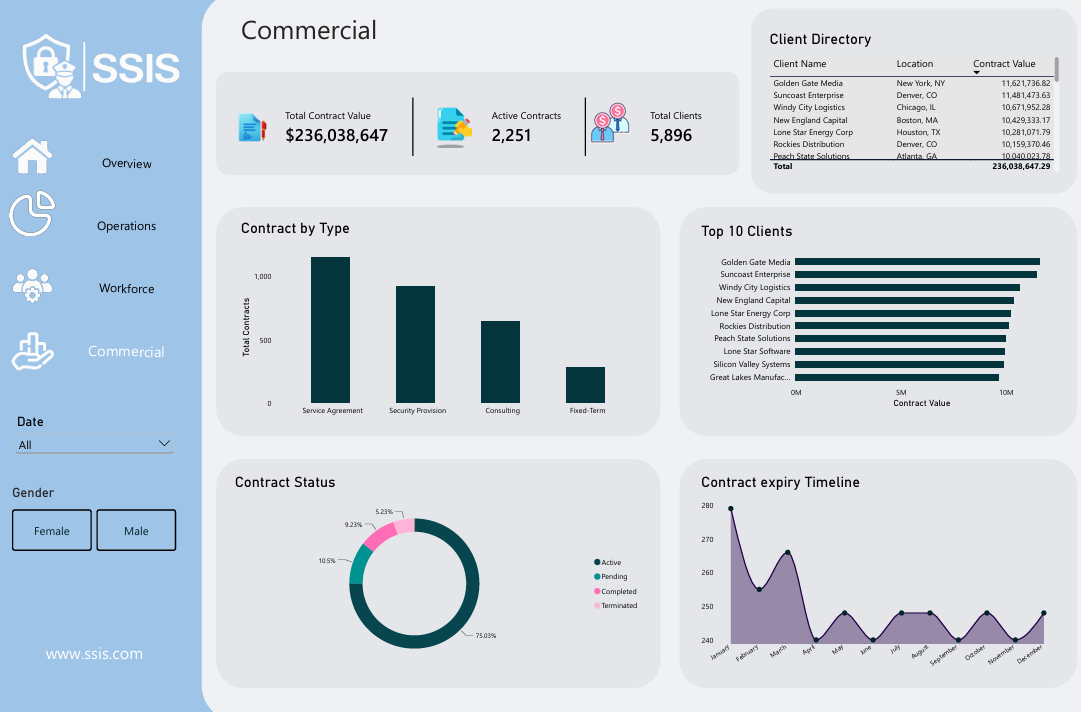

This screenshot's page, from the dashboard's own definition file:
{"tool":"powerbi","page":{"name":"Commercial","canvas":[1280,720],"ordinal":3},"visuals":[{"type":"textbox","box":[420.2,11.8,850.8,64.7],"z":0},{"type":"actionButton","box":[20.6,301.2,175.4,58.9],"z":0,"group":"g4"},{"type":"shape","box":[10.3,11.8,205.7,696.5],"z":1000},{"type":"image","box":[20.6,301.2,40.6,58.9],"z":1000,"group":"g4"},{"type":"textbox","box":[20.6,27.9,174.9,61.7],"z":2000},{"type":"actionButton","box":[20.6,567.2,175.4,58.9],"z":2000,"group":"g1"},{"type":"actionButton","box":[20.6,389.4,175.4,58.9],"z":3000,"group":"g3"},{"type":"group","id":"g1","title":"Group 1","box":[20.6,567.2,174.9,60.2],"z":3000},{"type":"group","id":"g2","title":"Group 2","box":[20.6,480.5,174.9,60.2],"z":4000},{"type":"group","id":"g3","title":"Group 3","box":[20.6,389.4,174.9,58.8],"z":5000},{"type":"actionButton","box":[20.6,480.5,175.4,60.2],"z":5000,"group":"g2"},{"type":"group","id":"g4","title":"Group 4","box":[20.6,301.2,174.9,58.8],"z":6000},{"type":"cardVisual","title":"Active Contracts","fields":{"Data":["ssis contract.Active Contracts"]},"box":[624.5,91.1,273.2,96.3],"z":6001,"group":"g7"},{"type":"image","box":[20.6,567.2,40.6,58.9],"z":6001,"group":"g1"},{"type":"image","box":[20.6,481.8,40.6,58.9],"z":6002,"group":"g2"},{"type":"image","box":[20.6,389.4,40.6,58.9],"z":6003,"group":"g3"},{"type":"group","id":"g5","title":"Group 1","box":[227.8,92.6,243.9,94],"z":7000},{"type":"image","box":[624.5,91.1,78.8,92.5],"z":8000,"group":"g7"},{"type":"group","id":"g6","title":"Group 4","box":[1025.6,91.1,245.4,99.9],"z":8000},{"type":"group","id":"g7","title":"Group 5","box":[624.5,91.1,273.3,95.5],"z":9000},{"type":"cardVisual","title":"Contract Value","fields":{"Data":["ssis contract.Total Contract Value"]},"box":[227.8,92.6,245,96.3],"z":10000,"group":"g5"},{"type":"clusteredColumnChart","title":"Contract by Type","fields":{"Category":["ssis contract.contract_type"],"Y":["CountNonNull(ssis contract.contract_id)"]},"box":[580.4,196.9,392.3,314.4],"z":10000},{"type":"donutChart","title":"Contract  Status","fields":{"Y":["CountNonNull(ssis contract.contract_id)"],"Category":["ssis contract.status"]},"box":[227.1,523,461.1,185.8],"z":11000},{"type":"cardVisual","title":"Total Clients","fields":{"Data":["ssis client.Total Clients"]},"box":[1025.6,91.1,246.1,99.5],"z":12000,"group":"g6"},{"type":"clusteredBarChart","title":"Top 10 Clients","fields":{"Category":["ssis client.client_name"],"Y":["Sum(ssis contract.contract_value)"]},"box":[227.1,196.8,348.2,313.8],"z":12000},{"type":"lineChart","title":"Contract expiry Timeline","fields":{"Category":["ssis contract.contract_end.Variation.Date Hierarchy.Year","ssis contract.contract_end.Variation.Date Hierarchy.Month","ssis contract.contract_end.Variation.Date Hierarchy.Day"],"Y":["CountNonNull(ssis contract.contract_id)"]},"box":[986,196.9,285.1,314.4],"z":13000},{"type":"image","box":[227.8,92.6,62.4,94.9],"z":13005,"group":"g5"},{"type":"image","box":[1026,93.6,74.2,94.4],"z":13008,"group":"g6"},{"type":"tableEx","title":"Client Directory","fields":{"Values":["ssis client.client_name","ssis client.location","Sum(ssis contract.contract_value)"]},"box":[701.9,523,568.4,185.8],"z":14000},{"type":"textbox","box":[227.8,27.9,158.7,48.5],"z":15000},{"type":"image","box":[20.6,94,174.9,173.4],"z":16000}]}

Visuals, with their boxes on the page's 1280x720 design canvas (x1, y1, x2, y2). These are canvas units, not pixel positions in the 1081x712 screenshot, which may show the page scaled, cropped or inside an application window:
textbox: [420,12,1271,76]
actionButton: [21,301,196,360]
shape: [10,12,216,708]
image: [21,301,61,360]
textbox: [21,28,196,90]
actionButton: [21,567,196,626]
actionButton: [21,389,196,448]
"Group 1" group: [21,567,196,627]
"Group 2" group: [21,480,196,541]
"Group 3" group: [21,389,196,448]
actionButton: [21,480,196,541]
"Group 4" group: [21,301,196,360]
"Active Contracts" cardVisual: [624,91,898,187]
image: [21,567,61,626]
image: [21,482,61,541]
image: [21,389,61,448]
"Group 1" group: [228,93,472,187]
image: [624,91,703,184]
"Group 4" group: [1026,91,1271,191]
"Group 5" group: [624,91,898,187]
"Contract Value" cardVisual: [228,93,473,189]
"Contract by Type" clusteredColumnChart: [580,197,973,511]
"Contract  Status" donutChart: [227,523,688,709]
"Total Clients" cardVisual: [1026,91,1272,191]
"Top 10 Clients" clusteredBarChart: [227,197,575,511]
"Contract expiry Timeline" lineChart: [986,197,1271,511]
image: [228,93,290,188]
image: [1026,94,1100,188]
"Client Directory" tableEx: [702,523,1270,709]
textbox: [228,28,386,76]
image: [21,94,196,267]
